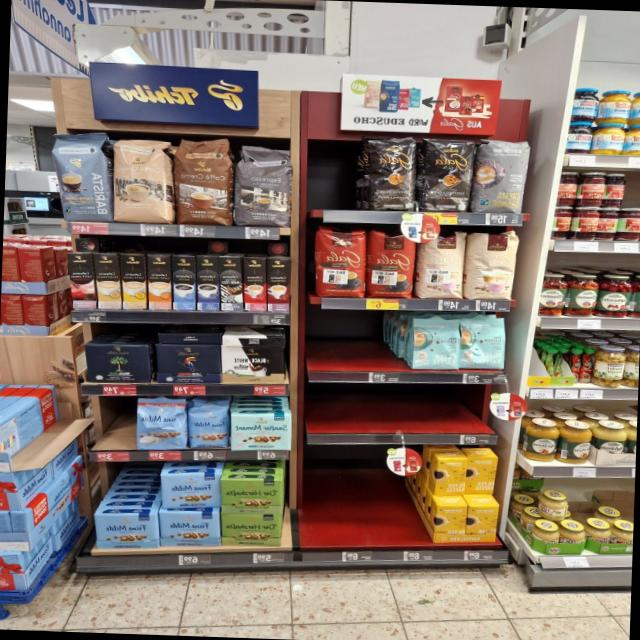BM Gemahlen: (83, 342, 150, 383)
BW Gemahlen: (220, 344, 284, 384)
Barista CC: (45, 130, 115, 225)
CC Mild: (111, 136, 174, 225)
CC Vollmundig 36 Pads: (170, 134, 237, 228)
Empty Shelf: (94, 398, 135, 449)
Espresso M Art: (231, 142, 294, 230)
FM 36 Pads: (134, 395, 190, 453)
FM Bohne: (188, 396, 231, 448)
FM Gemahlen: (92, 513, 159, 550), (159, 472, 221, 510), (158, 511, 220, 546)
Herzhatfe Mundig: (218, 478, 282, 514), (220, 512, 282, 547)
LG Gemahlen: (155, 343, 221, 384)
SM Gemahlen: (229, 411, 292, 452)
Simo CCMild bigpack: (119, 252, 147, 309)
Simo CCVollmundig bigpack: (146, 252, 172, 310)
Simo Decaff: (91, 251, 122, 310), (65, 252, 96, 310)
Simo Es Elegant: (242, 256, 266, 313)
Simo Es Kraft: (266, 256, 292, 313)
Simo Kaffee BW: (217, 255, 243, 313)
Simo Kaffee Kraft: (195, 255, 220, 311)
Simo Kaffee Mild: (171, 254, 196, 310)
